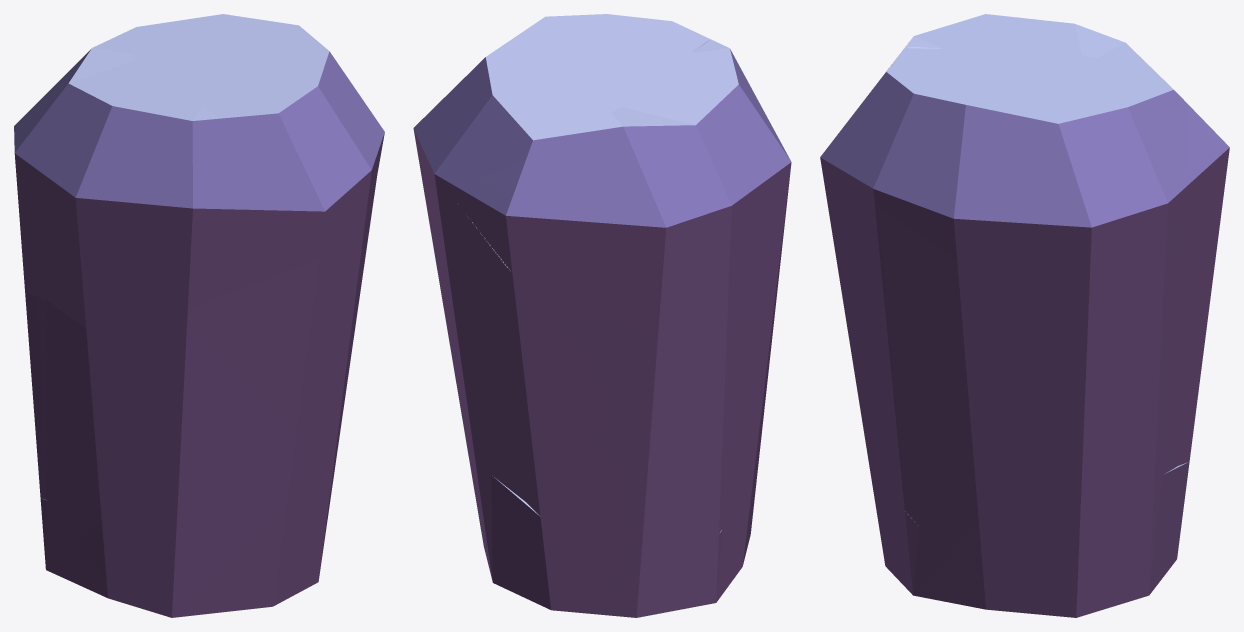
Rendered from RockSet.fbx.
3 views of the same model, side by side, from view 1: azimuth 30°, elevation 25°; view 2: azimuth 150°, elevation 25°; view 3: azimuth 270°, elevation 25° (orthographic). The views are drawn at different scales.
Parts seen in each view (by area): view 1: Rock1, Rock3, Rock4, Rock2, Rock5; view 2: Rock1, Rock3, Rock2, Rock5; view 3: Rock1, Rock2, Rock3, Rock5, Rock4.
Part boxes in pixels (bbox=[...]): Rock1: bbox=[14, 14, 384, 617]; Rock3: bbox=[25, 259, 318, 597]; Rock4: bbox=[172, 325, 329, 617]; Rock2: bbox=[69, 48, 376, 552]; Rock5: bbox=[40, 492, 287, 616]; Rock1: bbox=[413, 14, 791, 617]; Rock3: bbox=[437, 191, 778, 617]; Rock2: bbox=[424, 39, 729, 573]; Rock5: bbox=[469, 458, 744, 609]; Rock1: bbox=[820, 14, 1229, 617]; Rock2: bbox=[821, 24, 1228, 617]; Rock3: bbox=[875, 204, 1219, 617]; Rock5: bbox=[1076, 462, 1189, 617]; Rock4: bbox=[905, 511, 1091, 614].
Bounding box in the file's own units: 1.22 × 1.8 × 1.32.
Materials: 1 (1 with a texture image).
